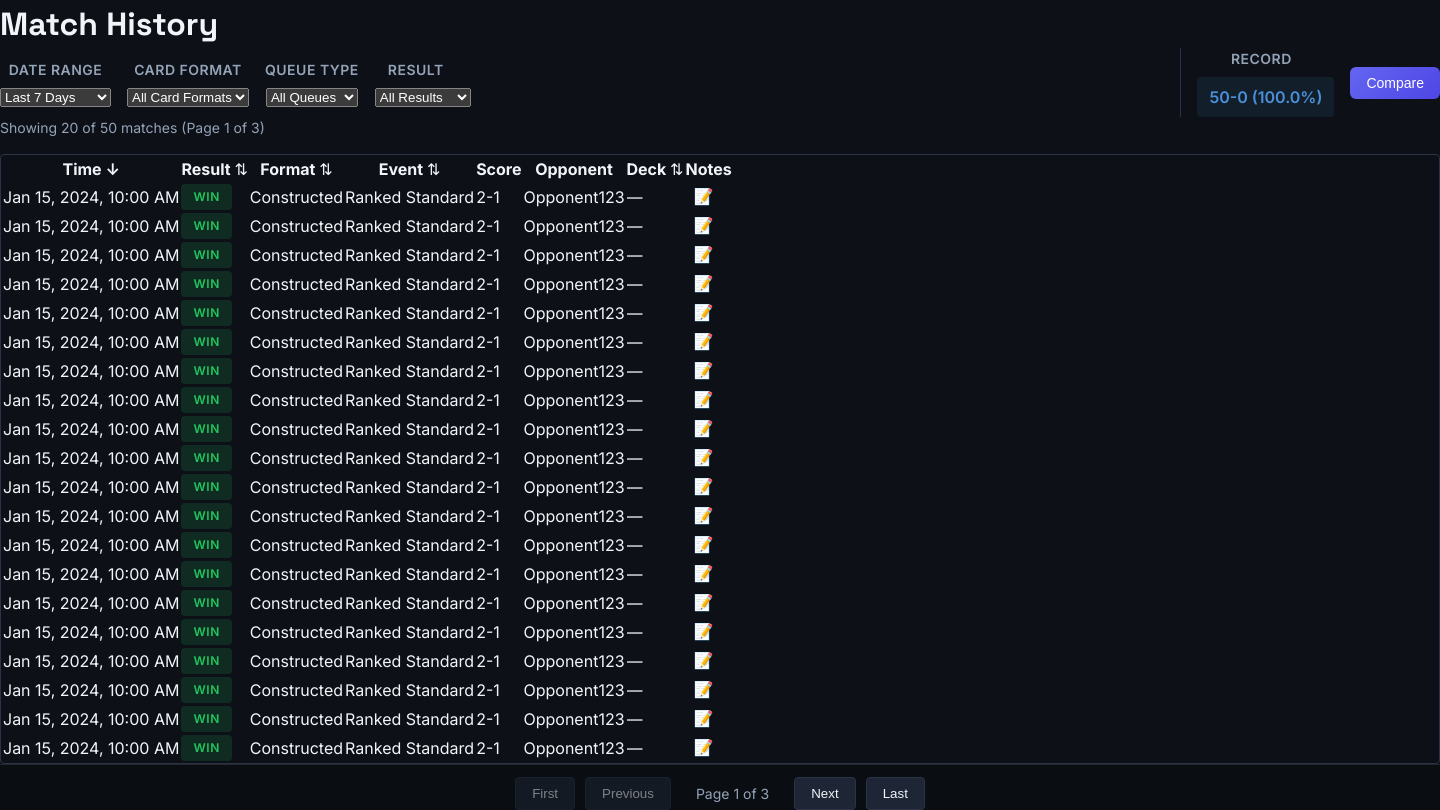
MatchHistory › Pagination › should navigate to first page
Expected: the text "Page 1 of 3" is shown, [696, 785, 769, 802]
Click the button "Last".
click(895, 794)  # box [866, 777, 925, 809]
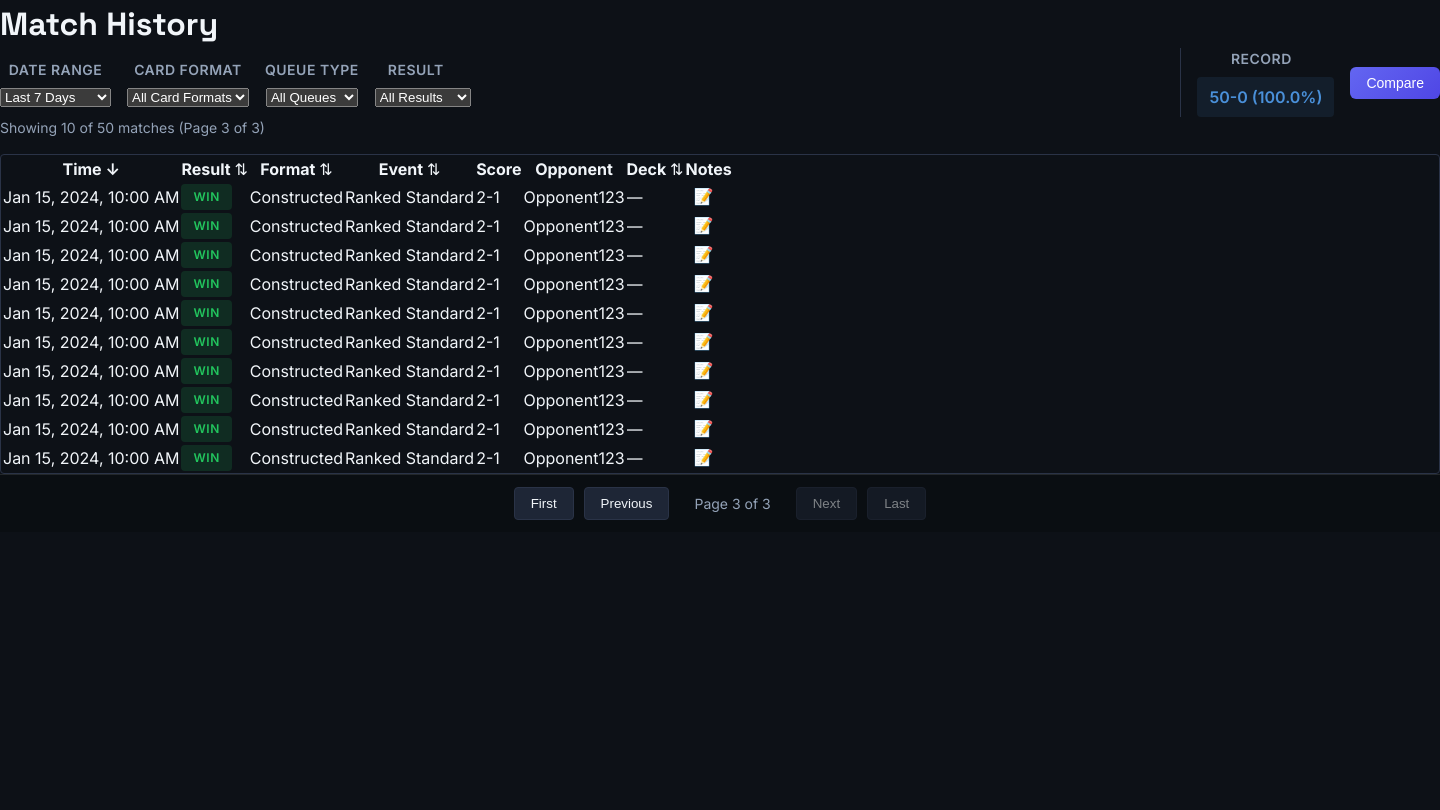
Expected: the text "Page 3 of 3" is shown, [694, 495, 771, 512]
Click the button "First".
click(544, 504)  # box [514, 487, 574, 520]
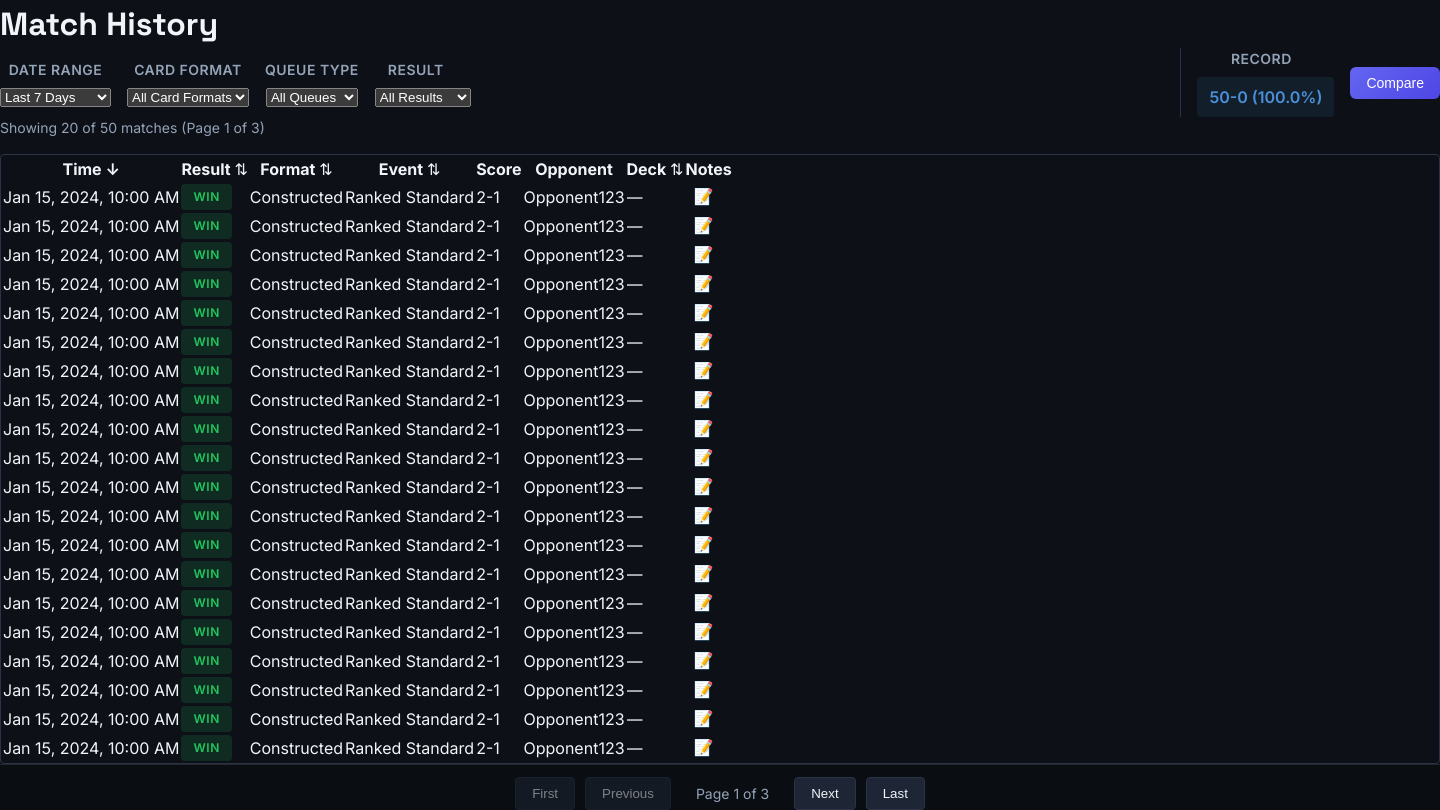
Expected: the text "Page 1 of 3" is shown, [696, 785, 769, 802]
